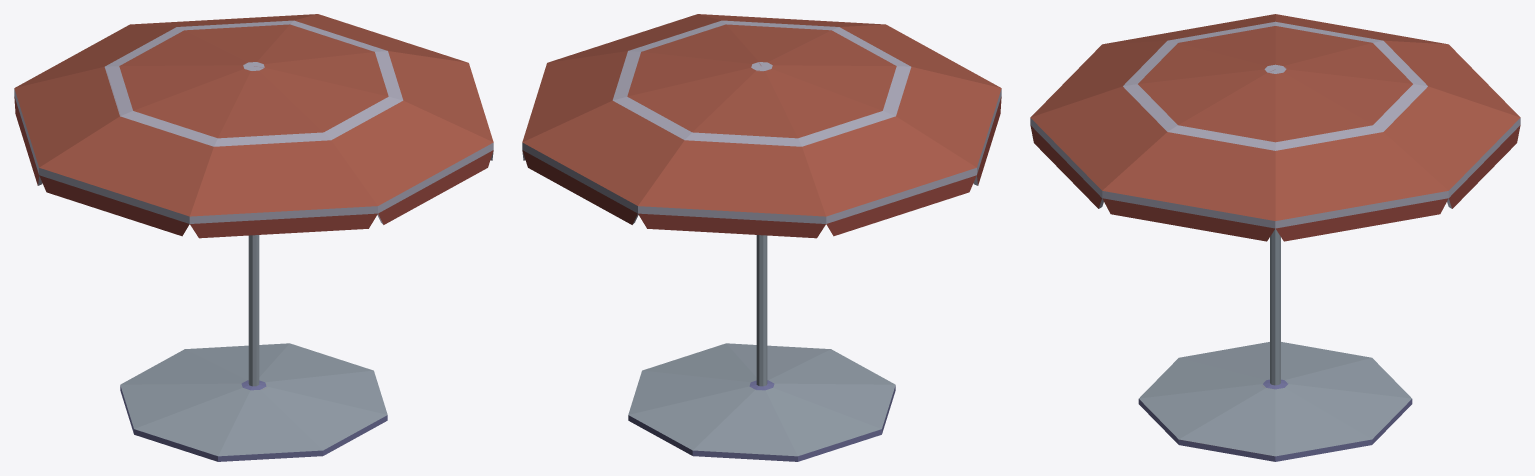
File: Payung.fbx
3 renders of one model, left to right at view 1: azimuth 30°, elevation 25°; view 2: azimuth 150°, elevation 25°; view 3: azimuth 270°, elevation 25°, orthographic.
Visible parts, largest first — view 1: 1 Payung; view 2: 1 Payung; view 3: 1 Payung.
Boxes of the visible parts, x1=… form: 1 Payung: x1=14, y1=14, x2=493, y2=461; 1 Payung: x1=522, y1=14, x2=1001, y2=461; 1 Payung: x1=1030, y1=14, x2=1520, y2=461.
Bounding box in the file's own units: 630 × 475 × 630.
